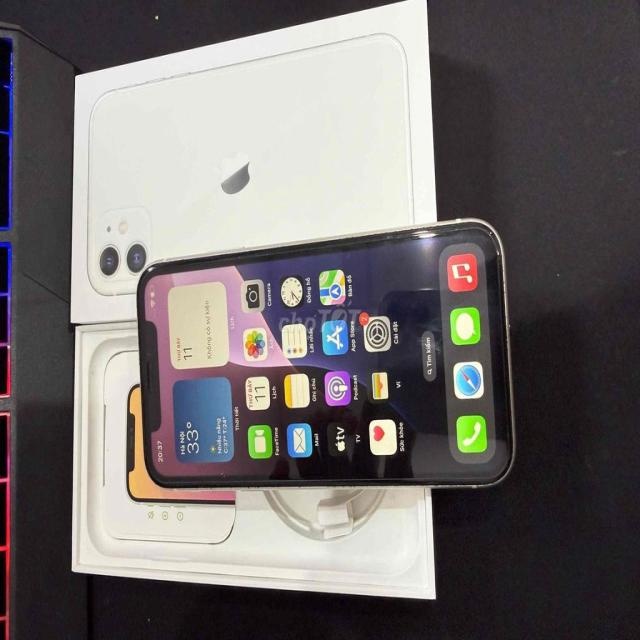gen_11: (136, 215, 515, 502)
